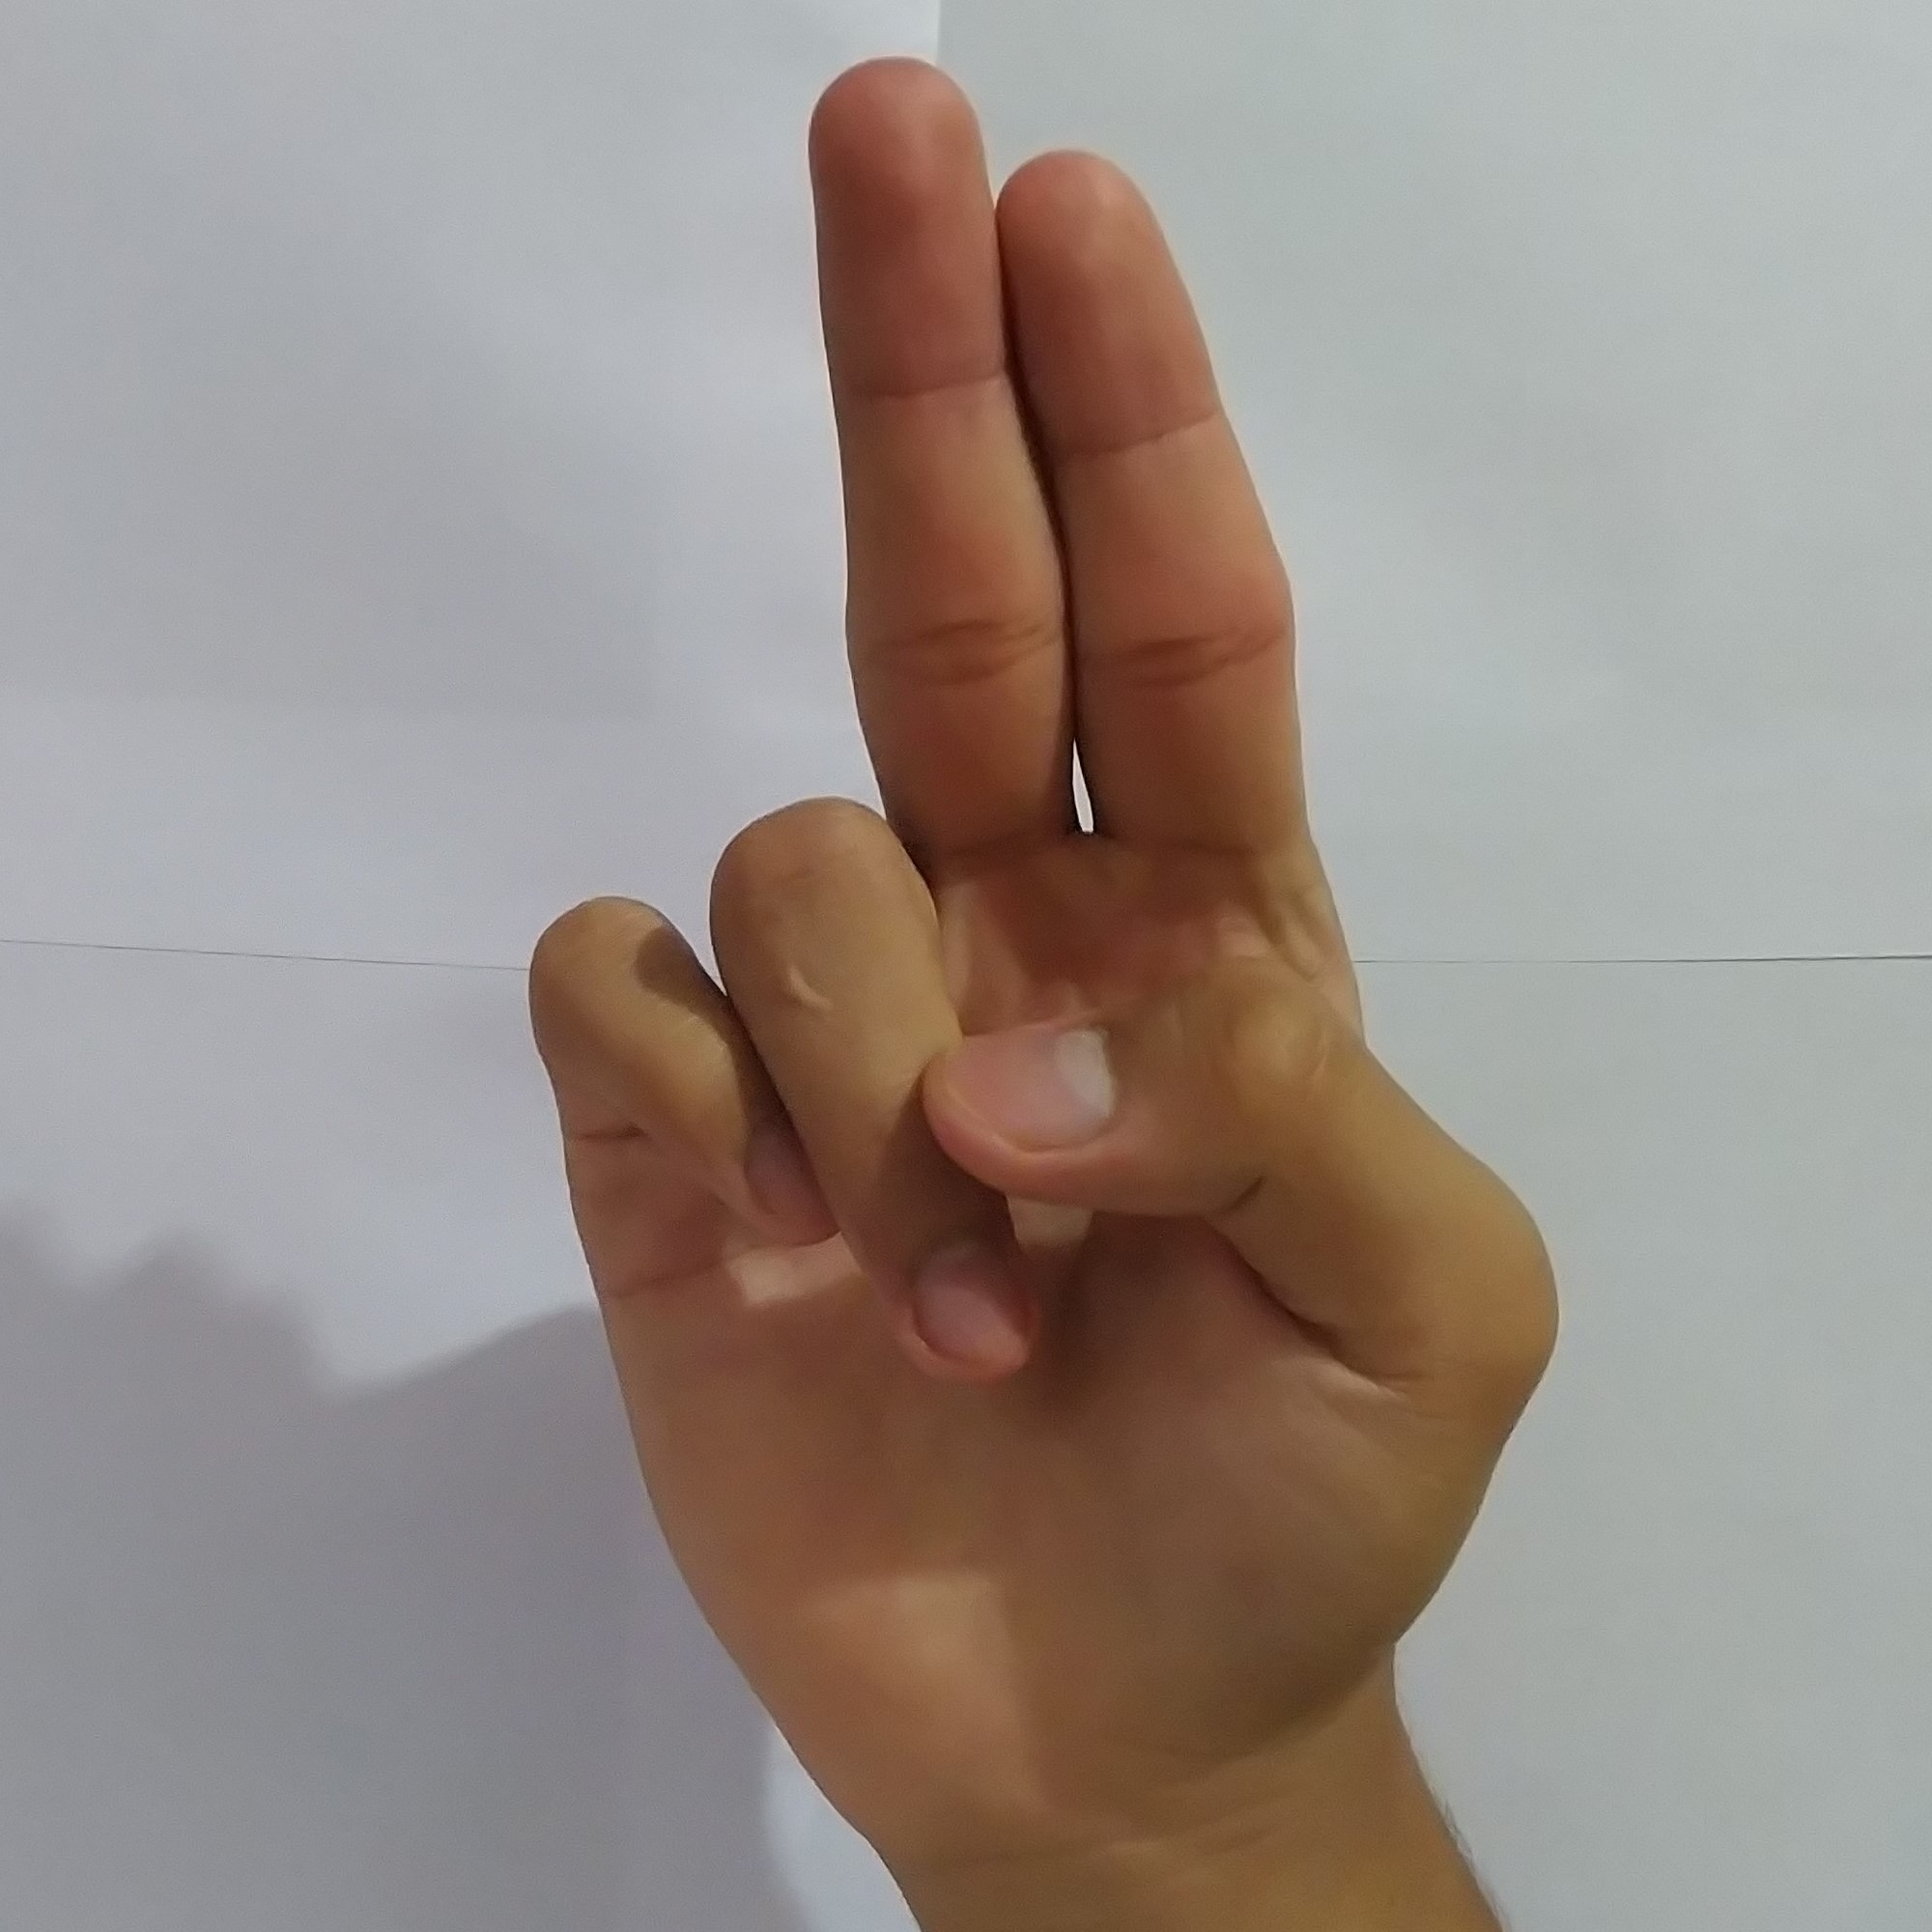U: (502, 39, 1582, 1821)
